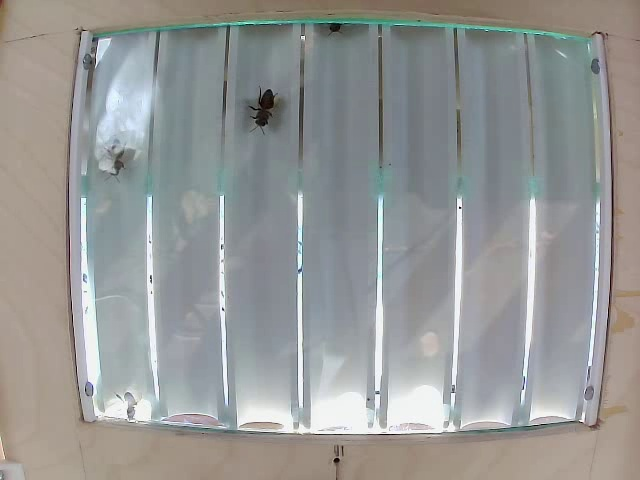bee: (248, 93, 279, 142)
